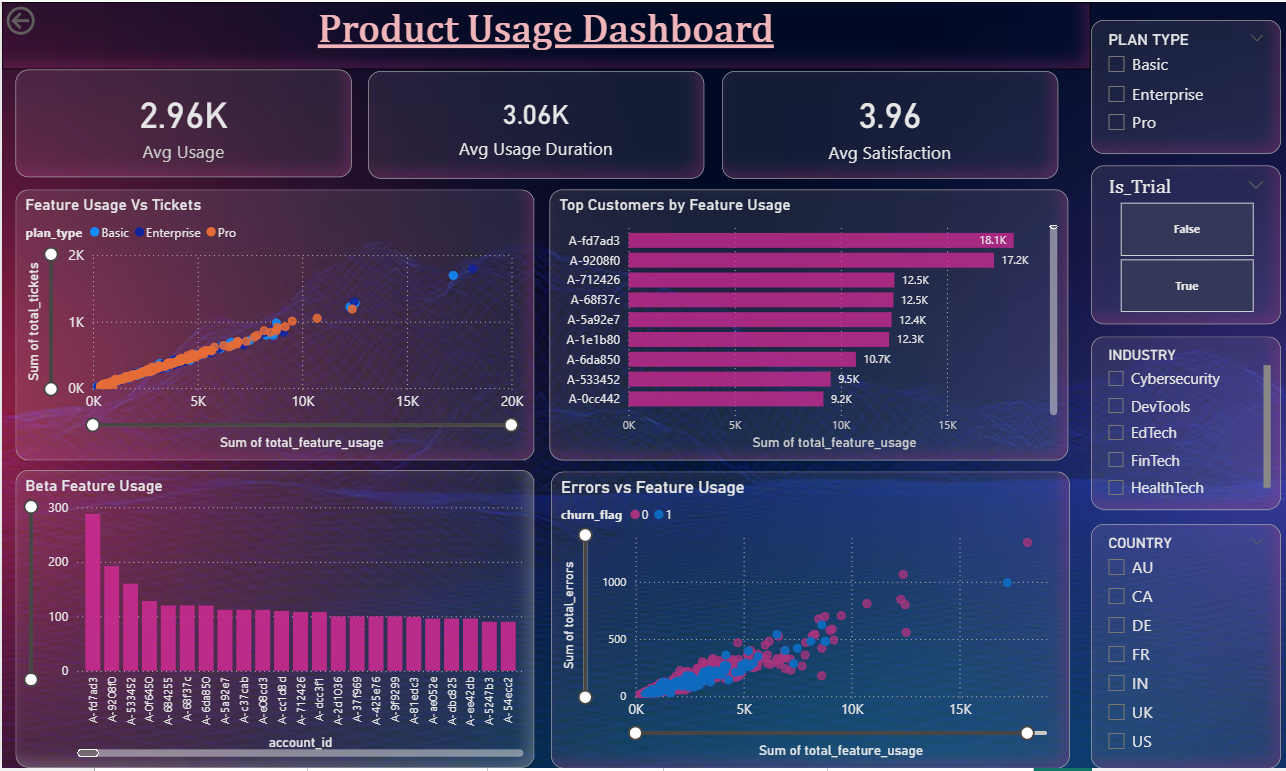

This screenshot's page, from the dashboard's own definition file:
{"tool":"powerbi","page":{"name":"Product_usage","canvas":[1380,820],"ordinal":1},"visuals":[{"type":"textbox","box":[0,0,1165,71.7],"z":0},{"type":"card","fields":{"Values":["final_saas_dataset.Avg Usage"]},"box":[14.8,72.2,360,115],"z":1000},{"type":"card","fields":{"Values":["final_saas_dataset.Avg Usage Duration"]},"box":[391.7,73.3,360,115],"z":2000},{"type":"card","fields":{"Values":["final_saas_dataset.Avg Satisfaction"]},"box":[770,73.3,360,115],"z":3000},{"type":"clusteredBarChart","title":"Top Customers by Feature Usage","fields":{"Category":["final_saas_dataset.account_id"],"Y":["Sum(final_saas_dataset.total_feature_usage)"]},"box":[586.7,200,555,290],"z":4000},{"type":"scatterChart","title":"Feature Usage Vs Tickets","fields":{"X":["Sum(final_saas_dataset.total_feature_usage)"],"Y":["Sum(final_saas_dataset.total_tickets)"],"Category":["final_saas_dataset.total_arr"],"Series":["final_saas_dataset.plan_type"]},"box":[15,200,555,290],"z":5000},{"type":"clusteredColumnChart","title":"Beta Feature Usage","fields":{"Category":["final_saas_dataset.account_id"],"Y":["Sum(final_saas_dataset.beta_feature_usage)"]},"box":[14.7,501.2,555.1,318.3],"z":6000},{"type":"slicer","fields":{"Values":["final_saas_dataset.plan_type"]},"box":[1165,20,203.3,143.3],"z":7000},{"type":"slicer","fields":{"Values":["final_saas_dataset.is_trial"]},"box":[1165,175,203.3,170],"z":8000},{"type":"slicer","fields":{"Values":["final_saas_dataset.industry"]},"box":[1165,358.3,203.3,185],"z":9000},{"type":"slicer","fields":{"Values":["final_saas_dataset.country"]},"box":[1165,558.3,203.3,261.7],"z":10000},{"type":"actionButton","box":[0,0,100,40],"z":11000},{"type":"scatterChart","title":"Errors vs Feature Usage","fields":{"X":["Sum(final_saas_dataset.total_feature_usage)"],"Y":["Sum(final_saas_dataset.total_errors)"],"Category":["final_saas_dataset.account_id"],"Series":["final_saas_dataset.churn_flag"]},"box":[587,502,555,318],"z":12000}]}

Visuals, with their boxes in screenshot pixels (x1, y1, x2, y2), scaled from the page's 1380x820 canvas onto the 1286x771 screenshot:
textbox: pyautogui.locateOnScreen(0, 0, 1086, 67)
card - final_saas_dataset.Avg Usage: pyautogui.locateOnScreen(14, 68, 349, 176)
card - final_saas_dataset.Avg Usage Duration: pyautogui.locateOnScreen(365, 69, 700, 177)
card - final_saas_dataset.Avg Satisfaction: pyautogui.locateOnScreen(718, 69, 1053, 177)
"Top Customers by Feature Usage" clusteredBarChart: pyautogui.locateOnScreen(547, 188, 1064, 461)
"Feature Usage Vs Tickets" scatterChart: pyautogui.locateOnScreen(14, 188, 531, 461)
"Beta Feature Usage" clusteredColumnChart: pyautogui.locateOnScreen(14, 471, 531, 770)
slicer - final_saas_dataset.plan_type: pyautogui.locateOnScreen(1086, 19, 1275, 154)
slicer - final_saas_dataset.is_trial: pyautogui.locateOnScreen(1086, 165, 1275, 324)
slicer - final_saas_dataset.industry: pyautogui.locateOnScreen(1086, 337, 1275, 511)
slicer - final_saas_dataset.country: pyautogui.locateOnScreen(1086, 525, 1275, 770)
actionButton: pyautogui.locateOnScreen(0, 0, 93, 38)
"Errors vs Feature Usage" scatterChart: pyautogui.locateOnScreen(547, 472, 1064, 770)
